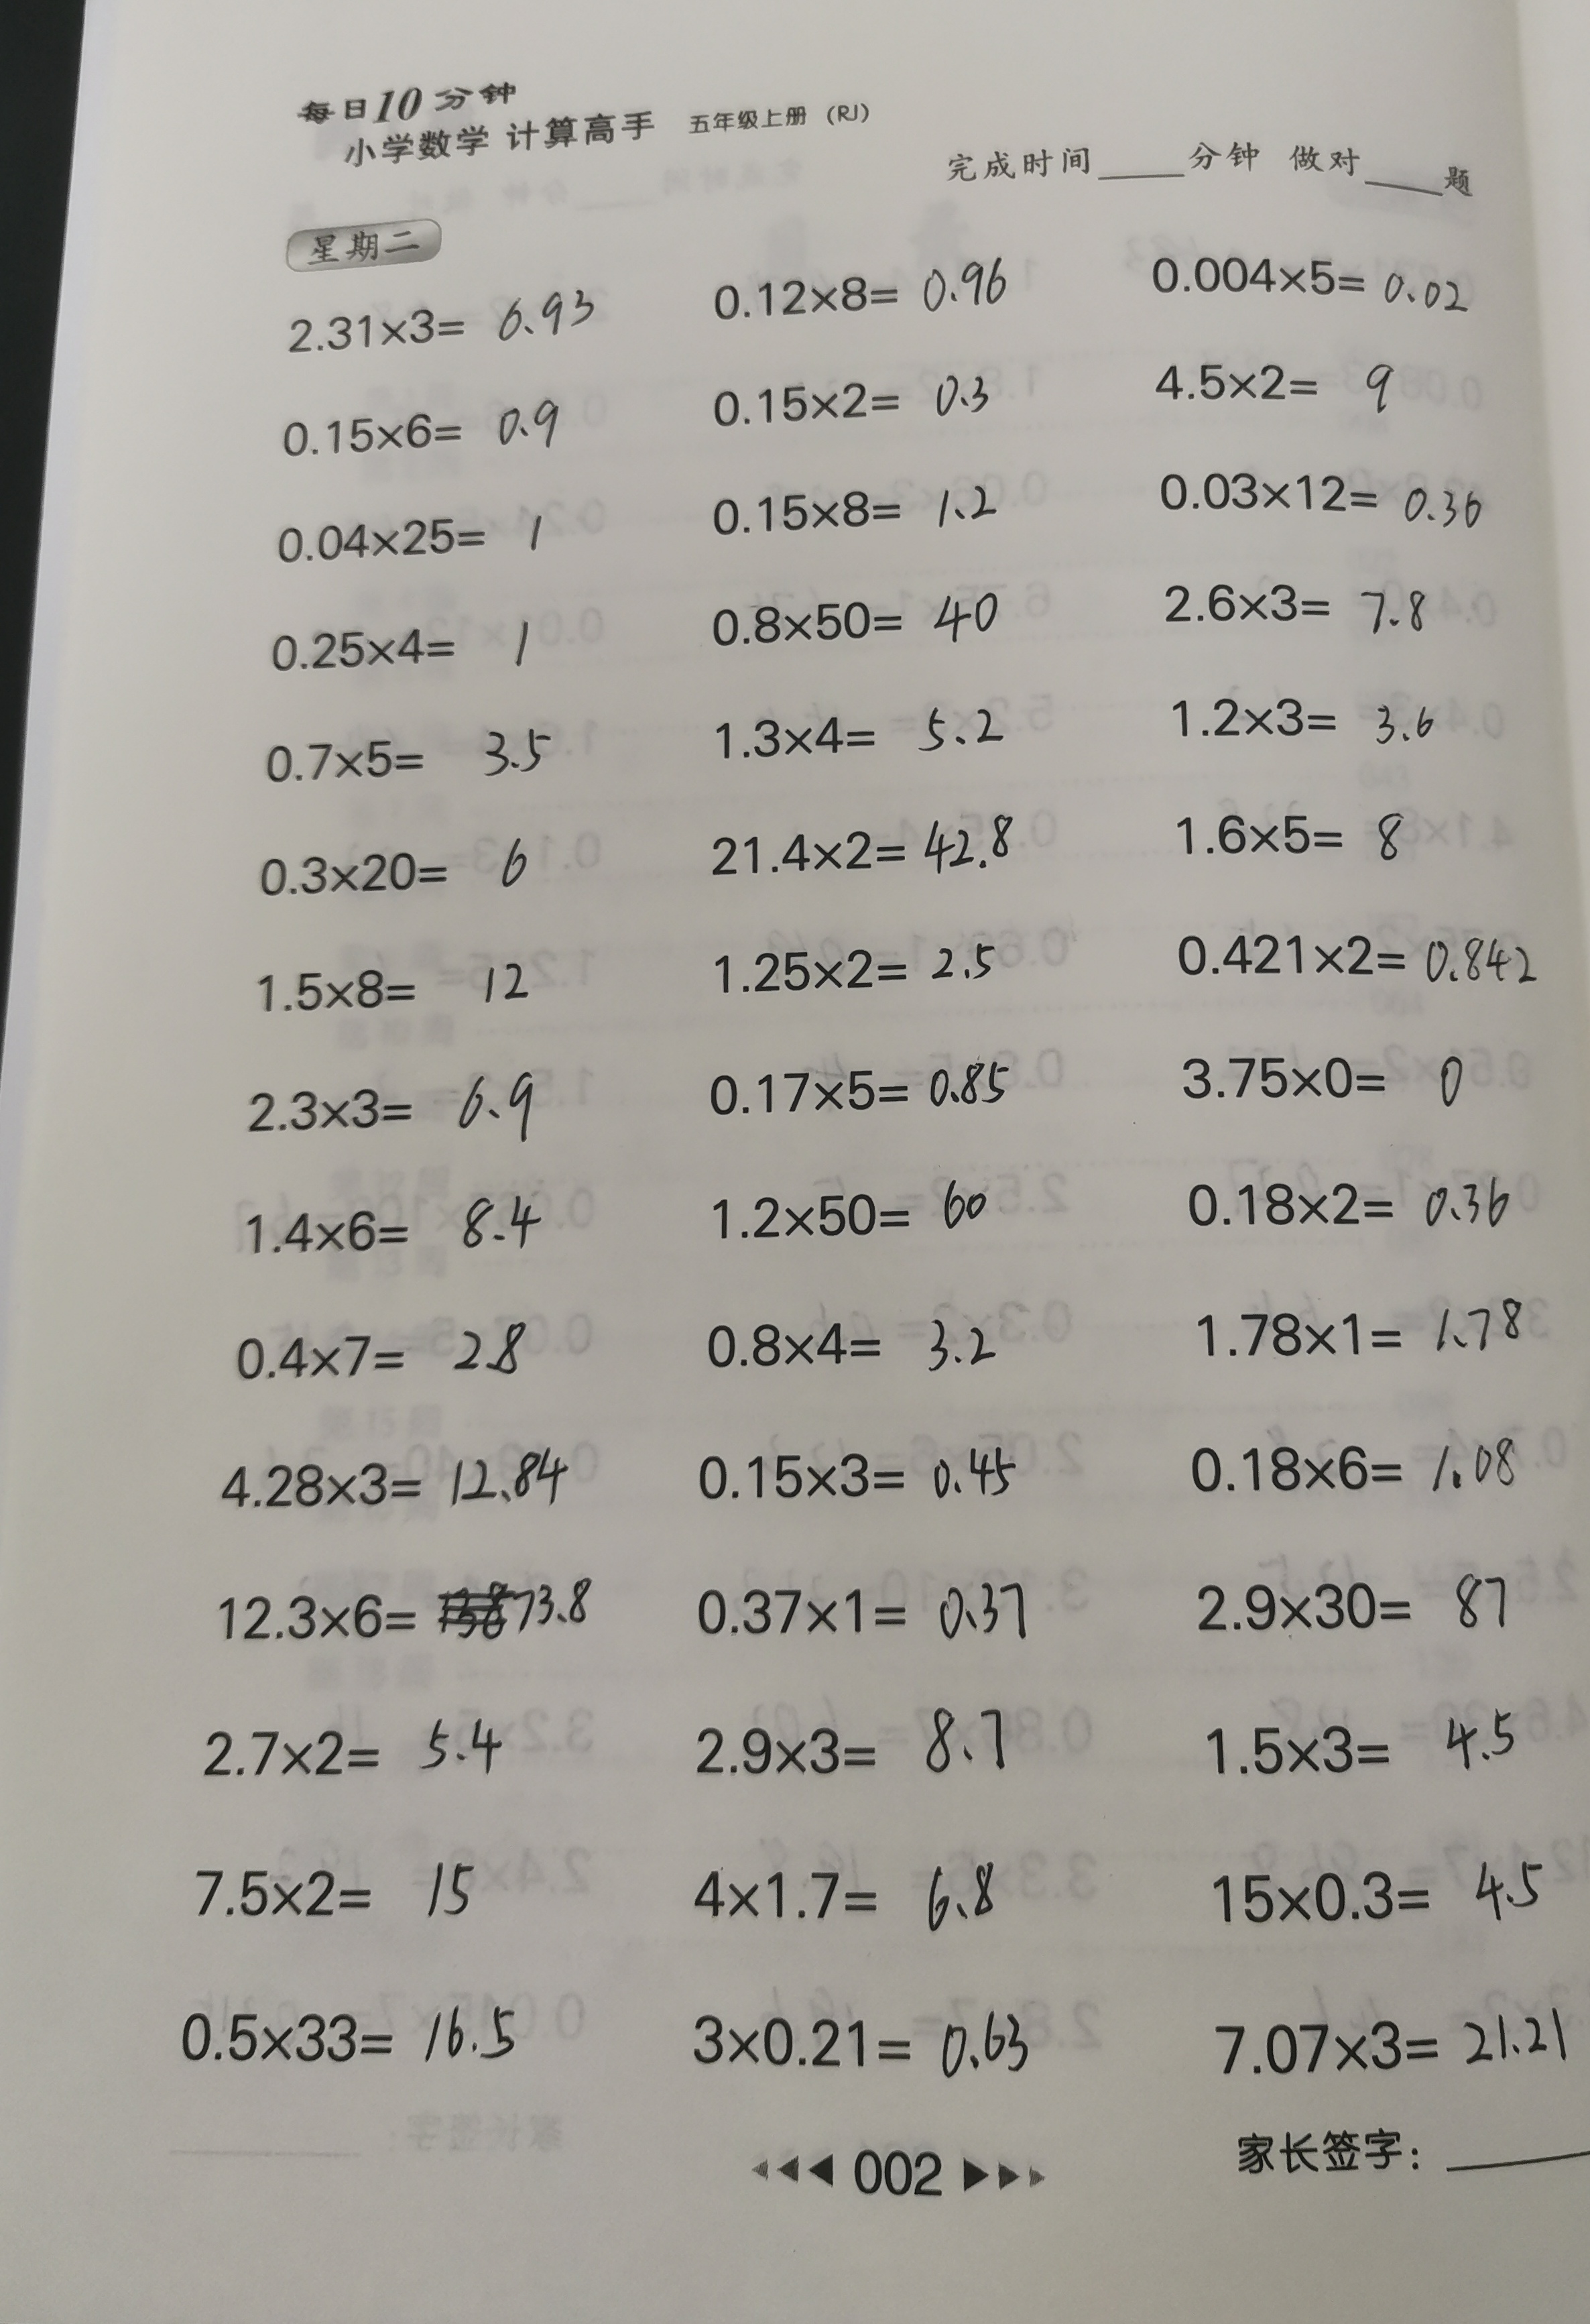equation: (201, 1559, 618, 1672), (678, 1559, 1061, 1669), (671, 1833, 1024, 1951), (681, 1988, 1050, 2101), (1133, 452, 1523, 553), (674, 1694, 1050, 1798), (1136, 231, 1489, 339), (1177, 1411, 1546, 1512), (212, 1302, 561, 1407), (168, 1981, 529, 2082), (1188, 1992, 1590, 2082), (1170, 1284, 1553, 1377), (692, 1291, 1036, 1392), (226, 1060, 566, 1160), (1158, 911, 1562, 996), (1177, 1563, 1542, 1656), (685, 911, 1036, 1008), (685, 1429, 1046, 1522), (215, 1437, 588, 1526), (1195, 1701, 1542, 1794), (178, 1702, 529, 1794), (685, 802, 1036, 892), (249, 710, 574, 805), (1144, 570, 1472, 664), (688, 238, 1029, 328), (1163, 1164, 1532, 1247), (222, 1183, 566, 1271), (1200, 1858, 1565, 1941), (171, 1844, 494, 1937), (1158, 1037, 1493, 1127), (692, 1045, 1029, 1134), (685, 683, 1020, 772), (697, 1167, 1024, 1257), (1151, 683, 1479, 772), (685, 577, 1016, 664), (245, 825, 563, 915), (256, 275, 614, 355), (685, 358, 1013, 445), (242, 939, 566, 1026), (1136, 348, 1426, 443), (1154, 788, 1449, 881), (256, 389, 591, 470), (685, 473, 1024, 553), (263, 503, 566, 577), (259, 613, 566, 683)
